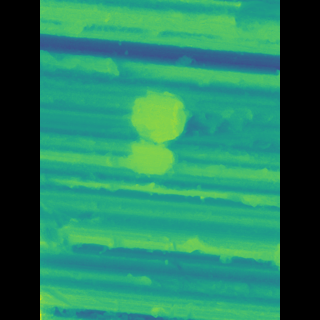Loch: (115, 89, 181, 192), (69, 54, 130, 81)
